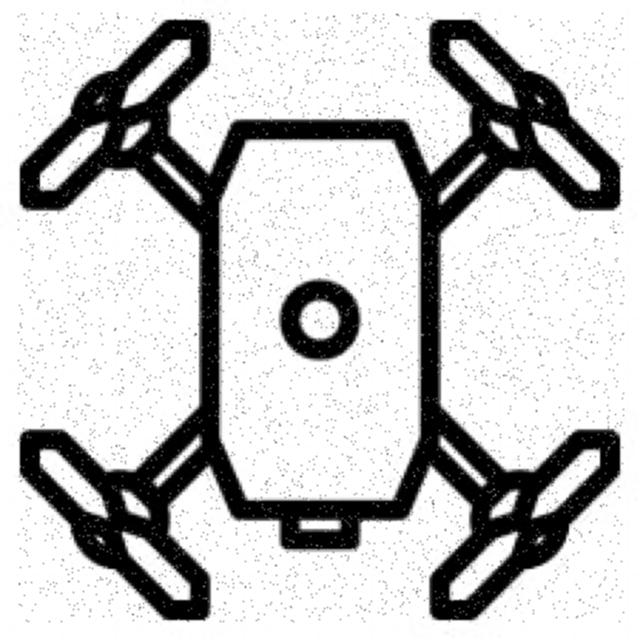drone: (19, 14, 625, 623)
